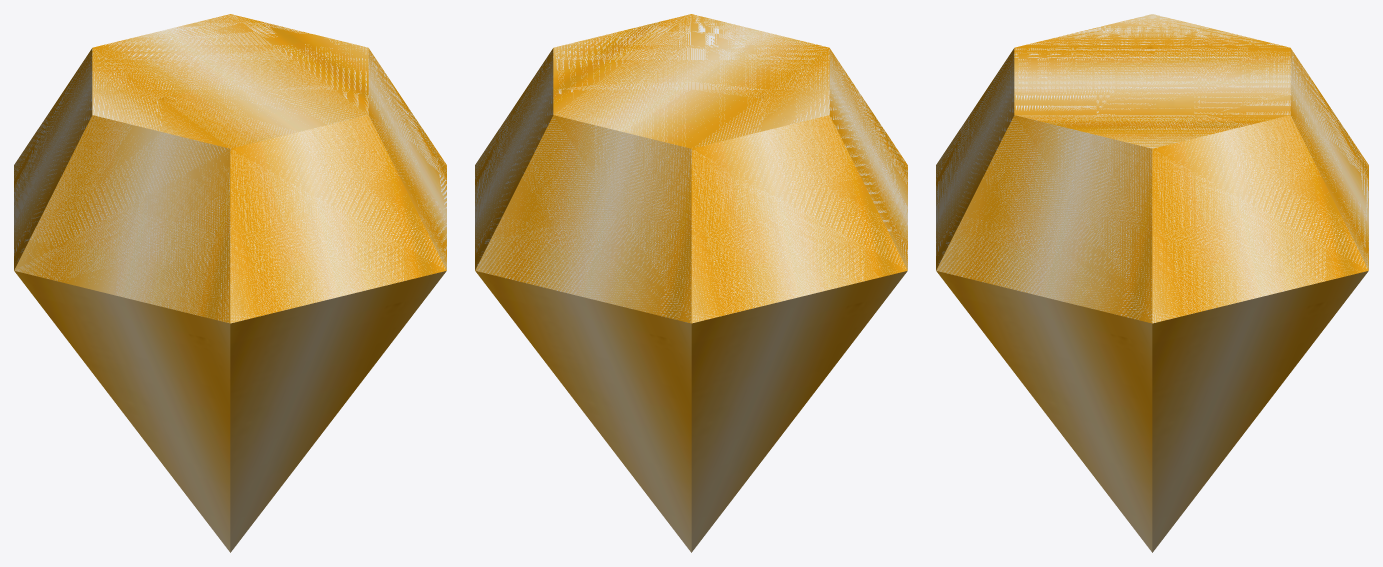
File: Gem 1 (painting partition).dae
The picture shows the model from 3 angles, left to right: view 1: azimuth 30°, elevation 25°; view 2: azimuth 150°, elevation 25°; view 3: azimuth 270°, elevation 25°; orthographic projection.
Visible parts, largest first — view 1: gem; view 2: gem; view 3: gem.
Part boxes in pixels (x1,y1,x2,y2): gem: [14, 14, 446, 552]; gem: [475, 14, 907, 552]; gem: [936, 14, 1368, 552].
Bounding box in the file's own units: 71.32 × 61.77 × 74.25.
2 materials, 1 textured.
